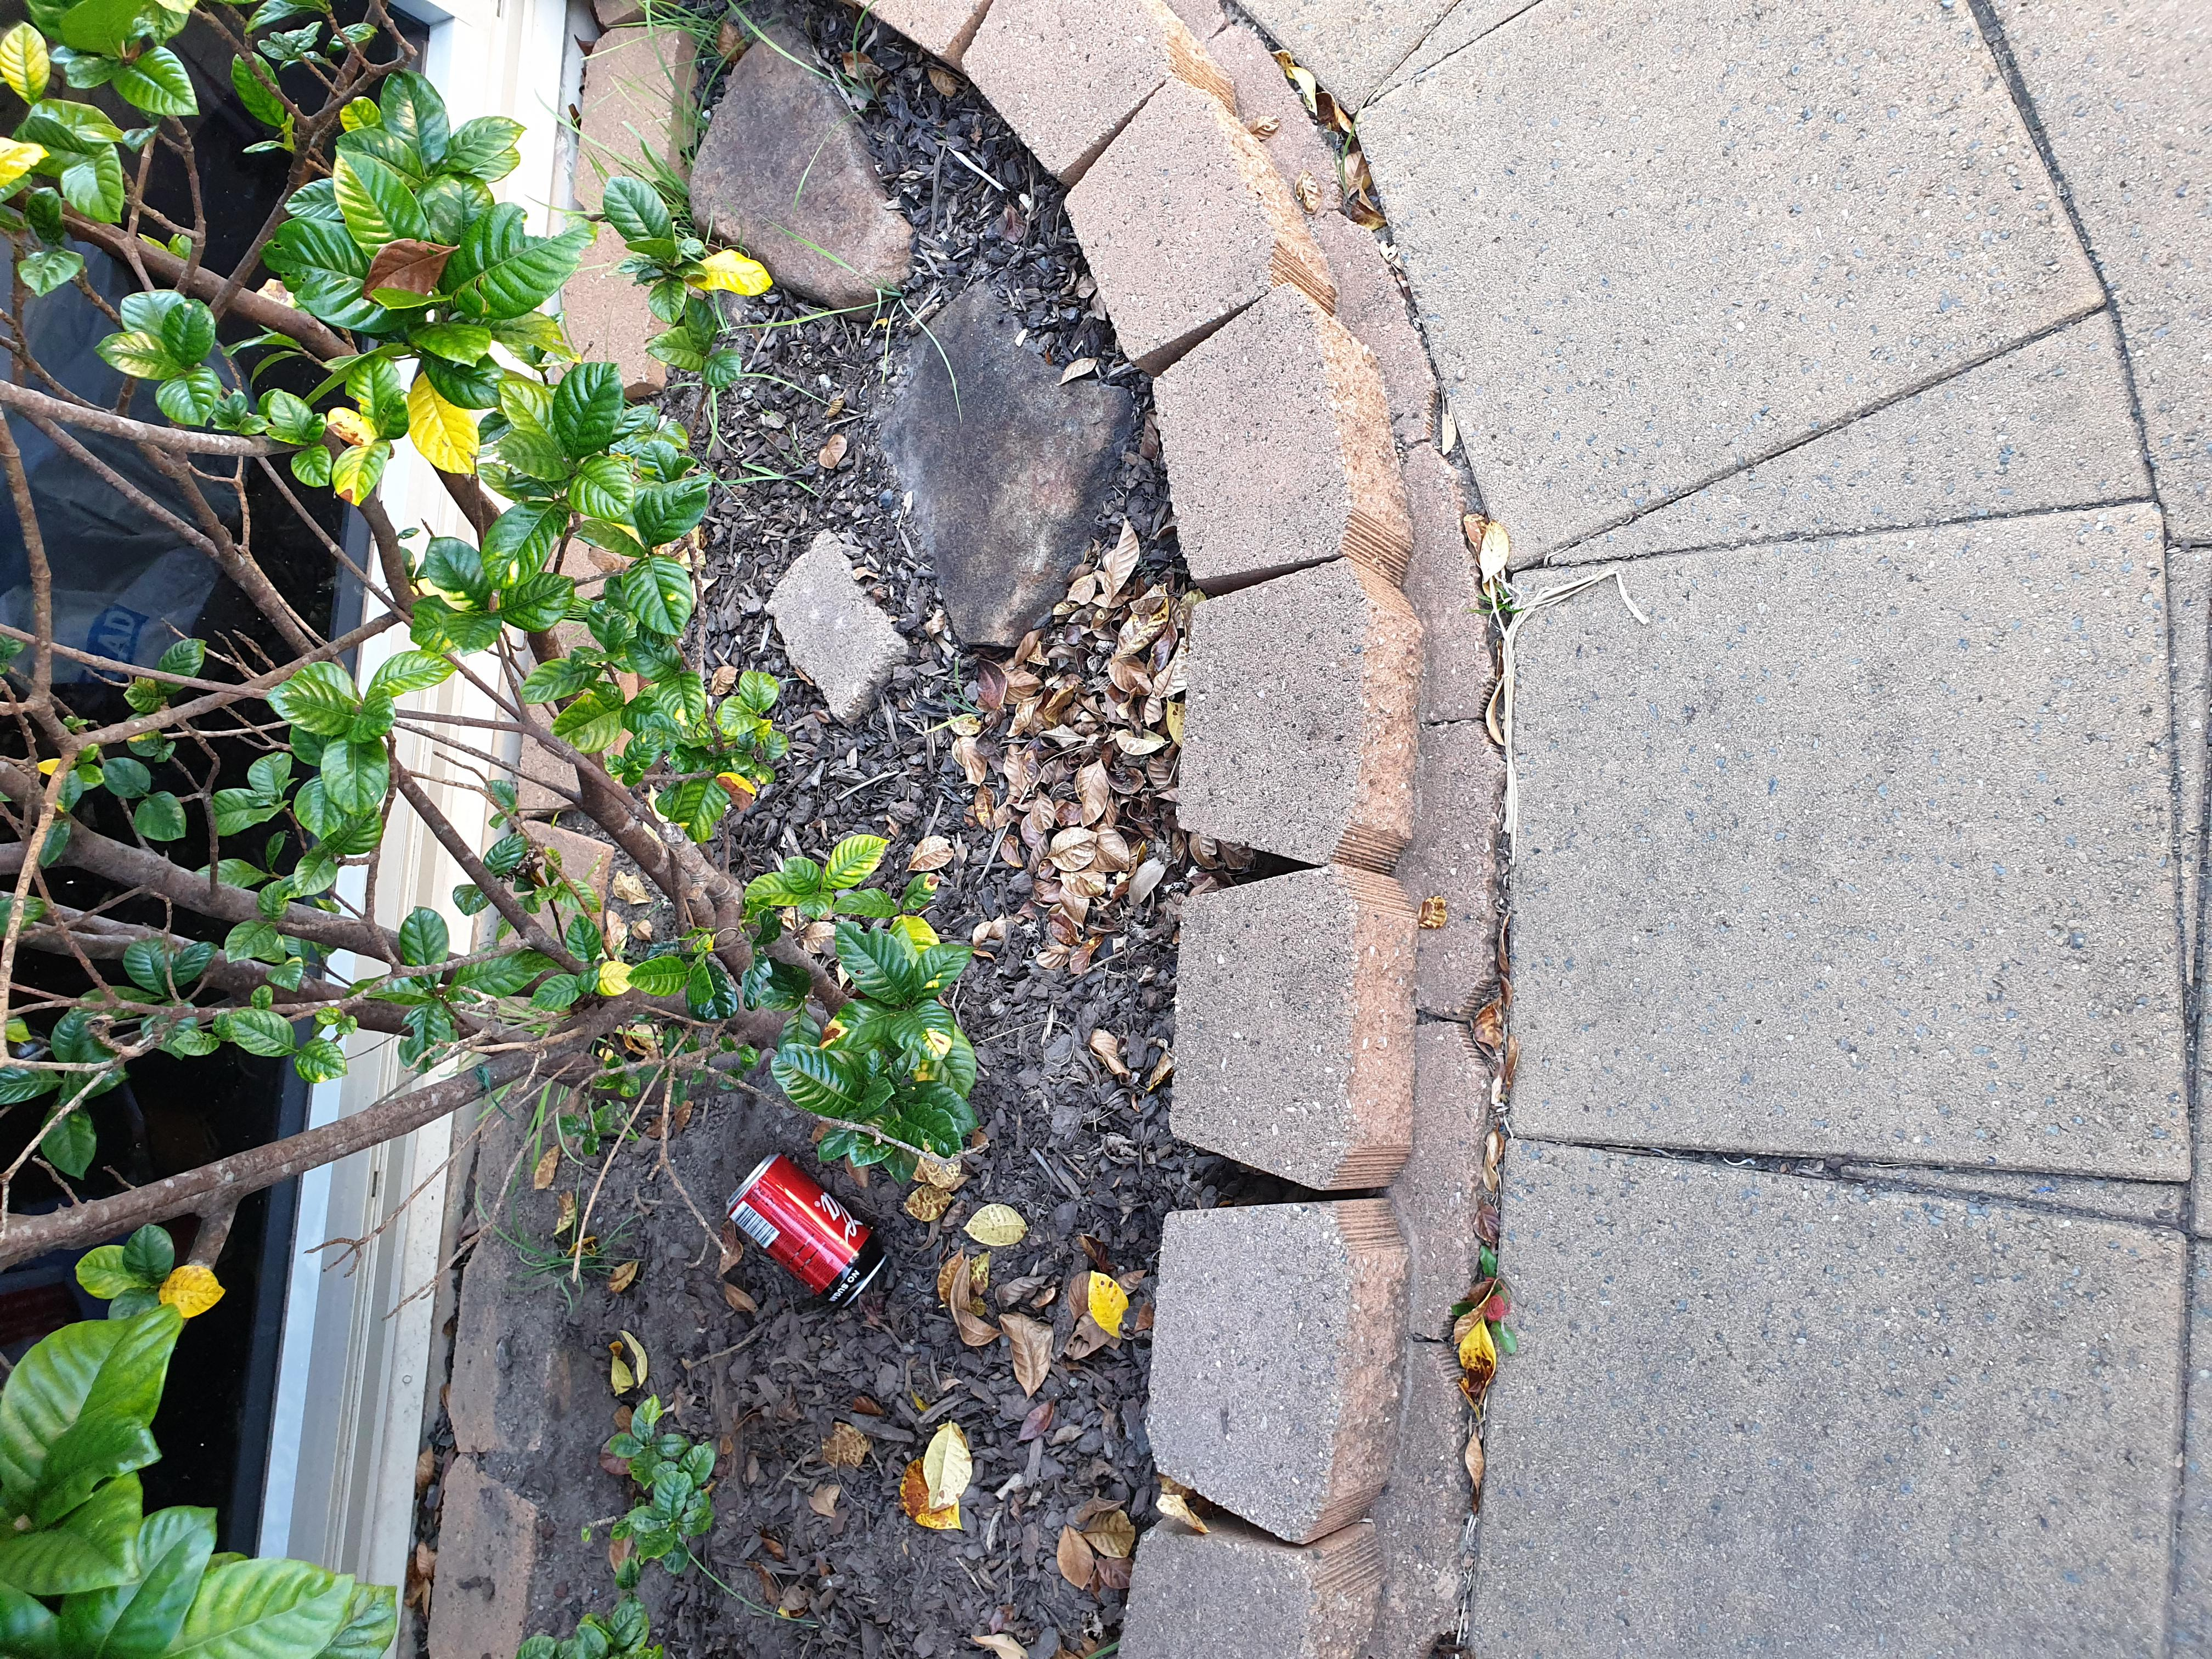Plastic Bottle: (725, 1152, 887, 1307)
